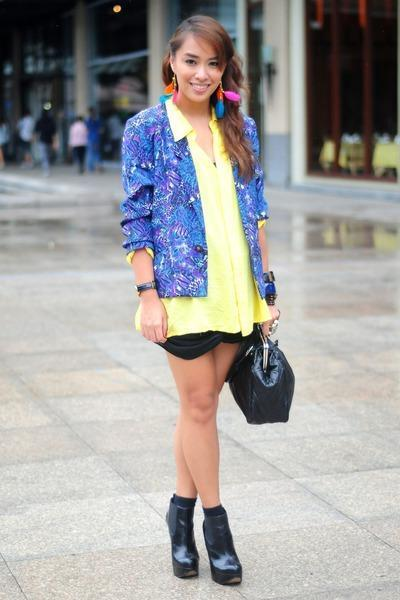jacket: (119, 96, 271, 300)
short sleeve shirt: (129, 102, 276, 338)
